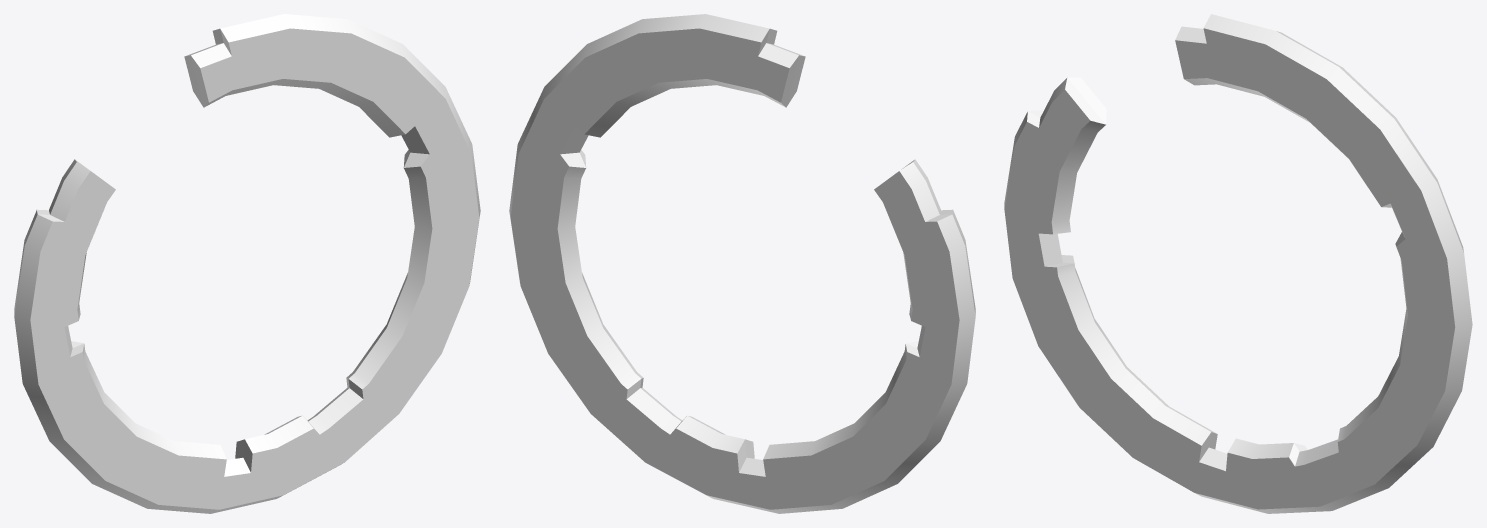
Rendered from Gate_01_Ring.glb.
The picture shows the model from 3 angles, left to right: view 1: azimuth 30°, elevation 25°; view 2: azimuth 150°, elevation 25°; view 3: azimuth 330°, elevation 25°; orthographic projection.
Parts seen in each view (by area): view 1: Gate_01_Ring; view 2: Gate_01_Ring; view 3: Gate_01_Ring.
Part boxes in pixels (<box>): Gate_01_Ring: <box>14,14,480,513</box>; Gate_01_Ring: <box>509,14,975,513</box>; Gate_01_Ring: <box>1004,14,1472,513</box>.
Size of the model in its own units: 3.99 by 3.96 by 0.2373.
1 material, 1 textured.
